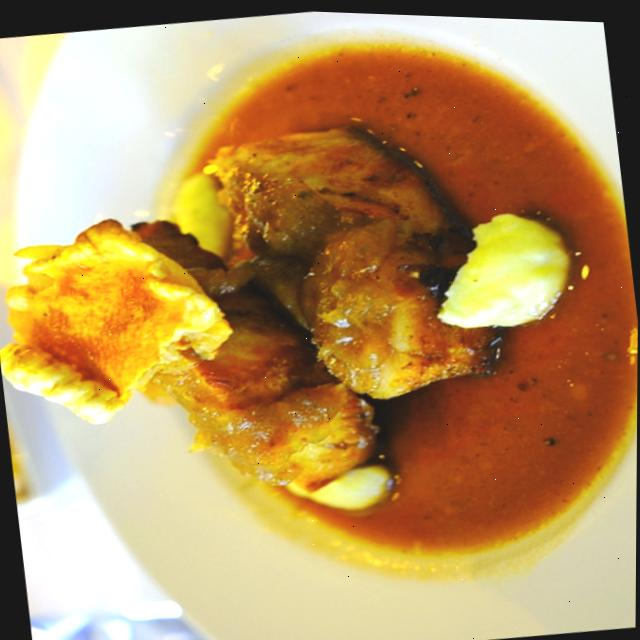牛肉菜式: (0, 15, 640, 640)
